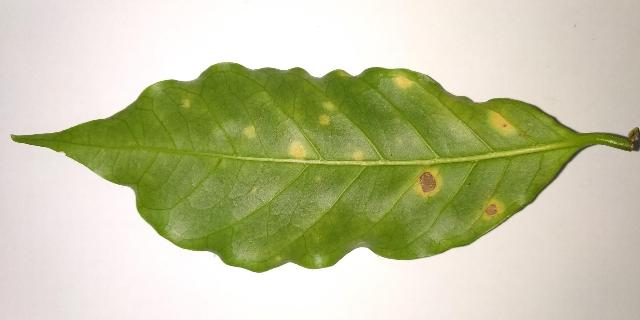miner: (414, 168, 440, 196), (489, 111, 513, 132), (482, 200, 503, 219), (392, 73, 415, 88), (289, 141, 306, 161), (353, 151, 365, 163), (319, 115, 330, 124), (245, 127, 254, 137), (325, 102, 334, 110), (183, 100, 190, 106)
